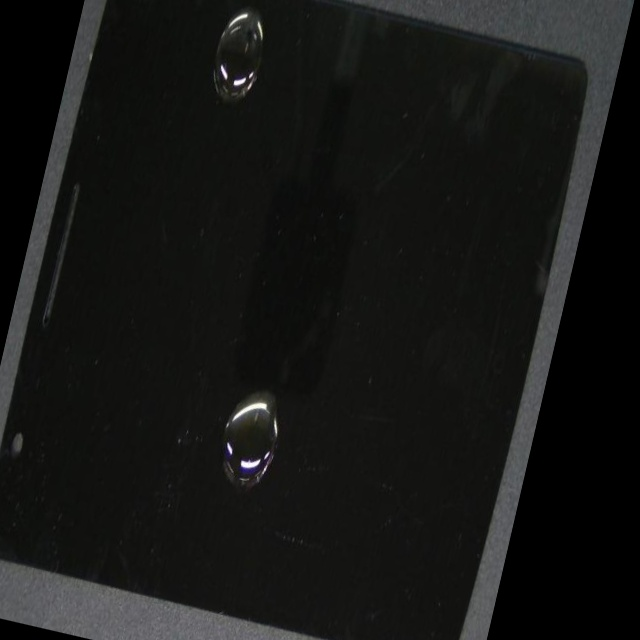oil: (96, 161, 463, 640), (166, 0, 360, 111)
